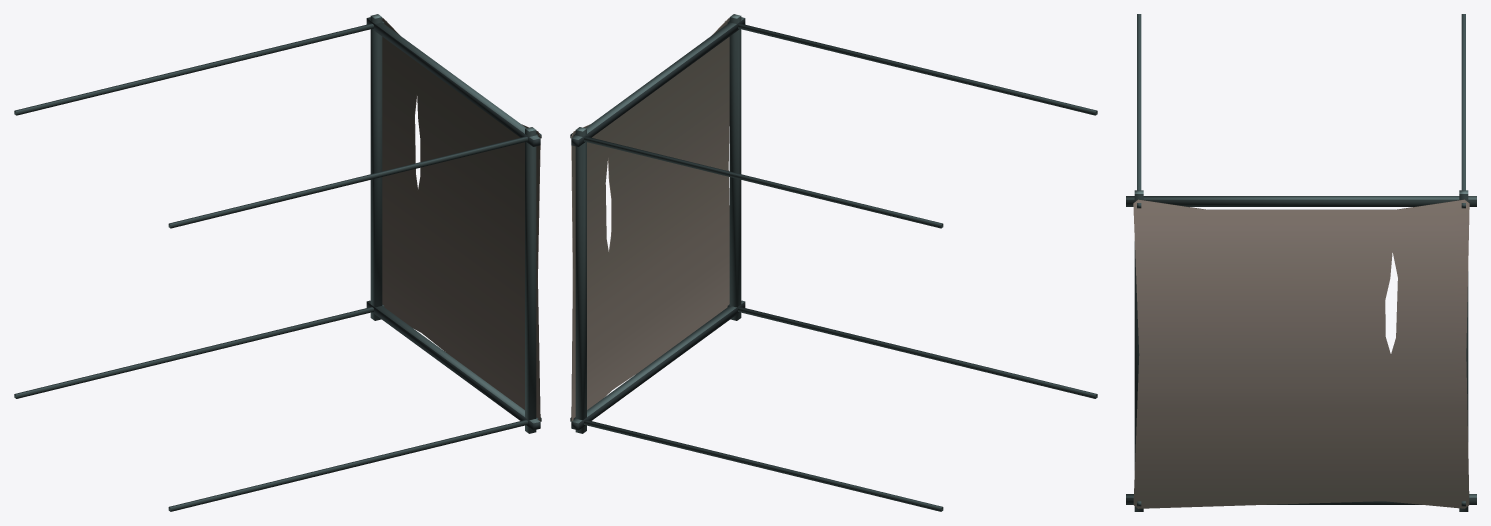
The model's file is Safety_Net_1E.fbx.
The picture shows the model from 3 angles, left to right: view 1: azimuth 30°, elevation 25°; view 2: azimuth 150°, elevation 25°; view 3: azimuth 270°, elevation 25°; orthographic projection. The views are drawn at different scales.
Visible parts, largest first — view 1: Safety_Net_1E; view 2: Safety_Net_1E; view 3: Safety_Net_1E.
Boxes of the visible parts, box(x1,y1,x2,y2) form: Safety_Net_1E: box(14, 14, 541, 511); Safety_Net_1E: box(570, 14, 1097, 511); Safety_Net_1E: box(1126, 14, 1476, 511).
Bounding box in the file's own units: 513 × 400 × 400.
